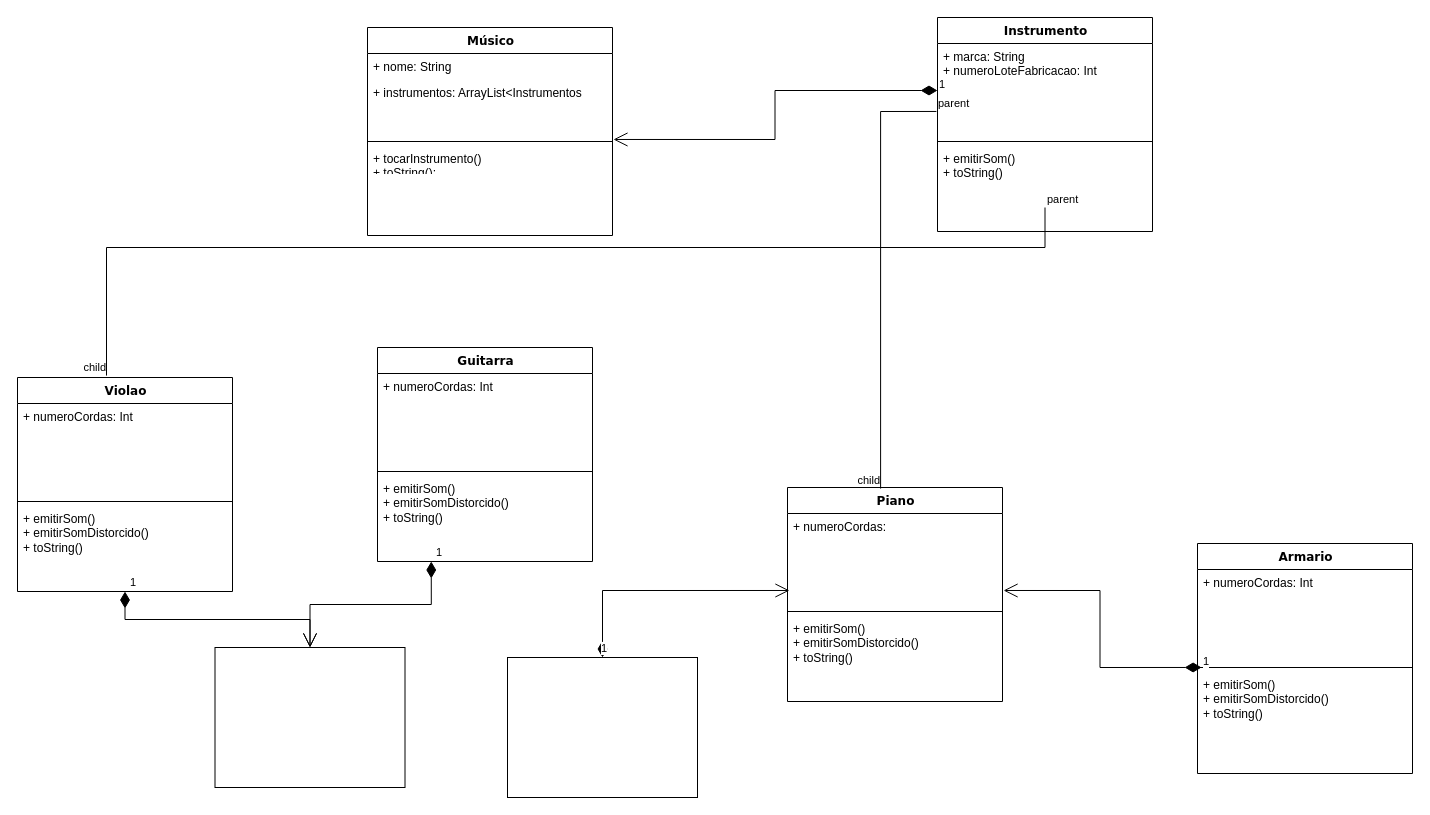
This 1430x815 diagram has some shape labels left out. The shapes that lost their labels are listed below. From the top down, each one's centre as x and y in pixels, then its label:
At point 309,717: "<<Interface>> Distorcao + emitirSomDistorcido(): String".
At point 602,727: "EfeitoSonoro + efeitoSonoro: String".
